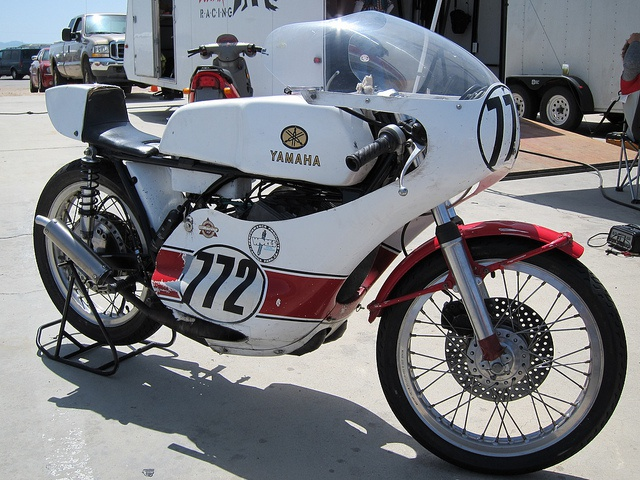non-vehicle: (29, 5, 626, 474), (182, 33, 268, 102)
